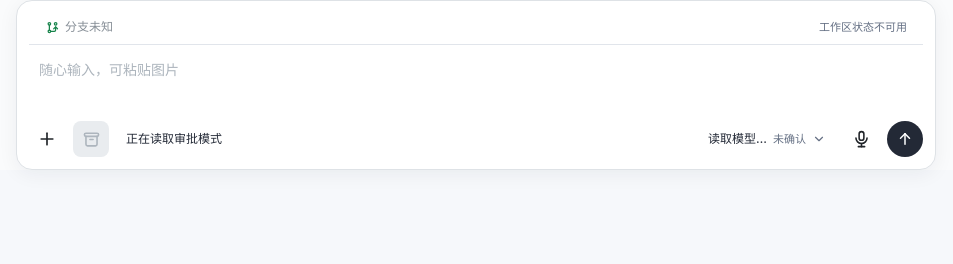
Test case: shows the native failure detail returned by a failed command
This screenshot has width=953, height=264.
Type "hello" into the text box named "消息内容" at (476, 81), box x1=29 y1=51 x2=923 y2=111
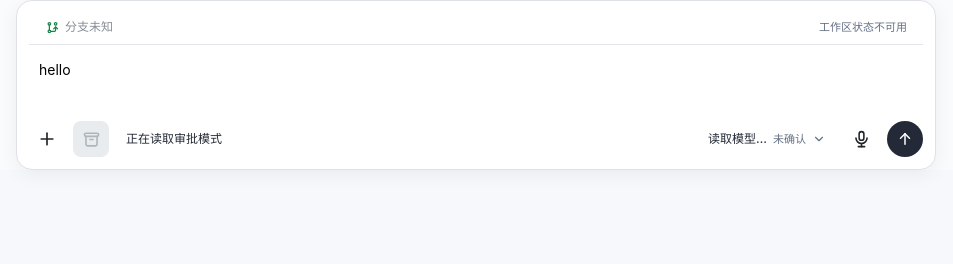
Click the button named "发送" at (905, 139), box x1=887 y1=121 x2=923 y2=157
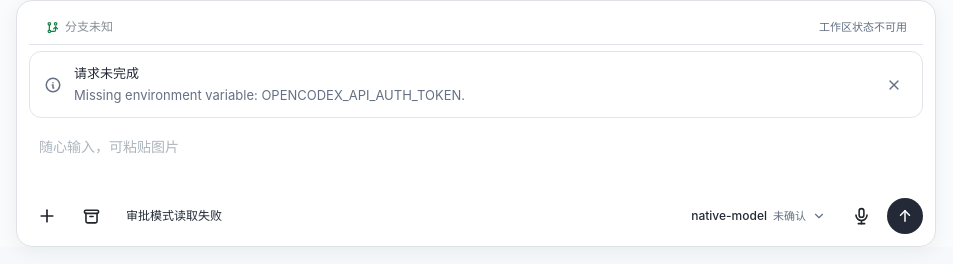
Expected: the text "Missing environment variable: OPENCODEX_API_AUTH_TOKEN." is shown, x1=74 y1=86 x2=465 y2=102
